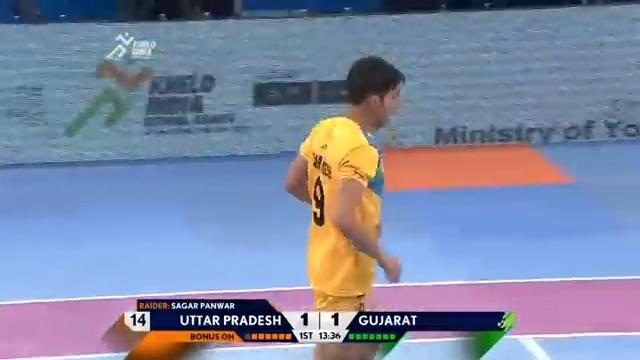Raider: (283, 54, 406, 358)
